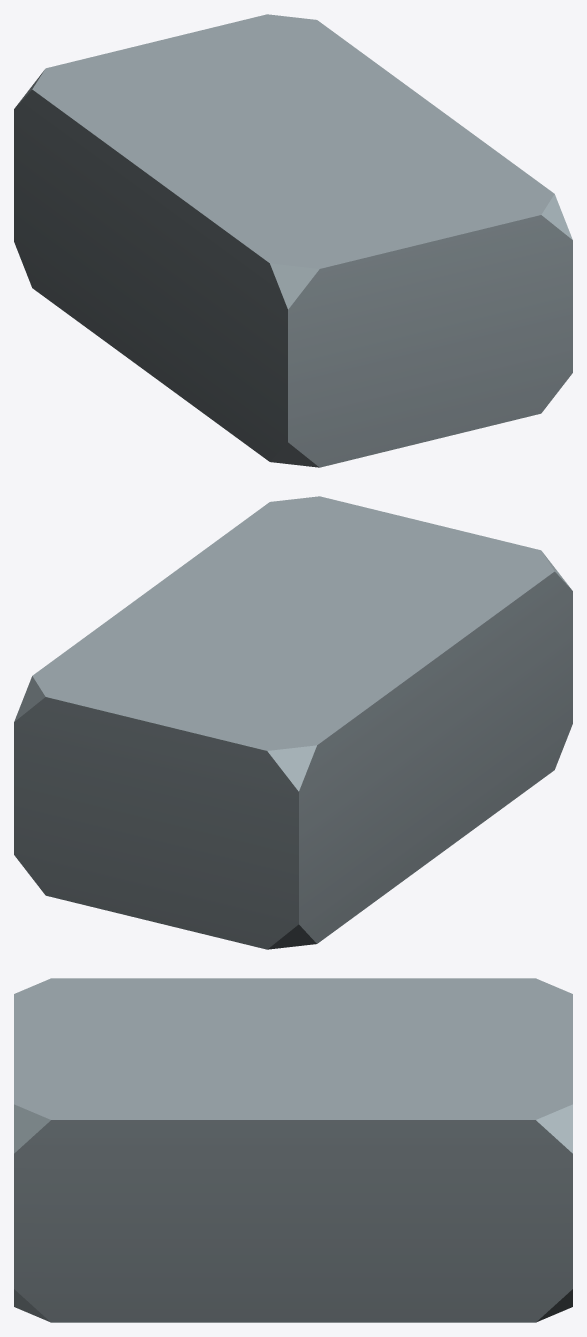
File: stone_brick.glb
The picture shows the model from 3 angles, top to bottom: view 1: azimuth 30°, elevation 25°; view 2: azimuth 150°, elevation 25°; view 3: azimuth 270°, elevation 25°; orthographic projection.
Parts seen in each view (by area): view 1: Stone_Brick; view 2: Stone_Brick; view 3: Stone_Brick.
Boxes of the visible parts, bbox=[...] form: Stone_Brick: bbox=[14, 14, 572, 467]; Stone_Brick: bbox=[14, 496, 572, 949]; Stone_Brick: bbox=[14, 978, 572, 1322].
Bounding box in the file's own units: 0.27 × 0.18 × 0.45.
1 material, 1 textured.
